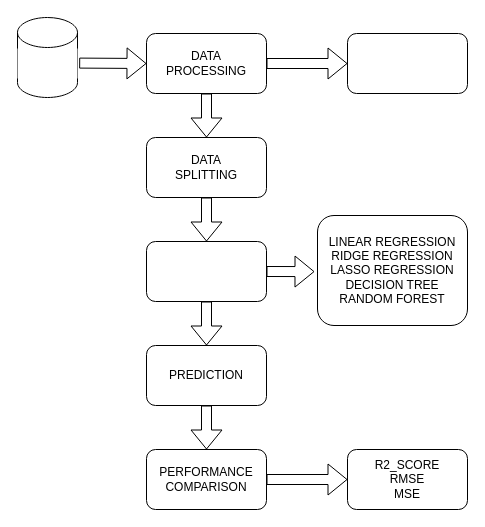
The diagram is 485 pixels wide and 527 high, and some of its shapes have lost their labels. Each missing label, with the centre of its shape:
DATA CLEANING DATA REDUCTION: pixel 407 63
DATASET: pixel 47 63
REGRESSION ALGORITHM: pixel 206 271
